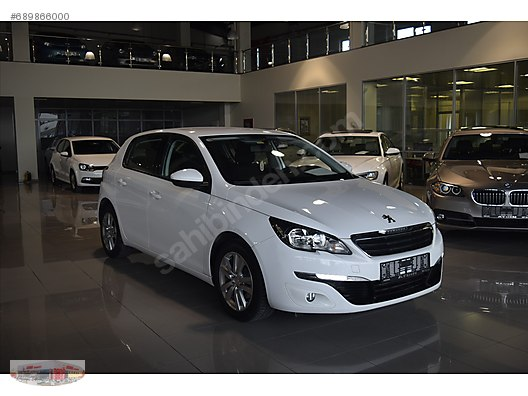peugeot: (97, 116, 448, 322)
